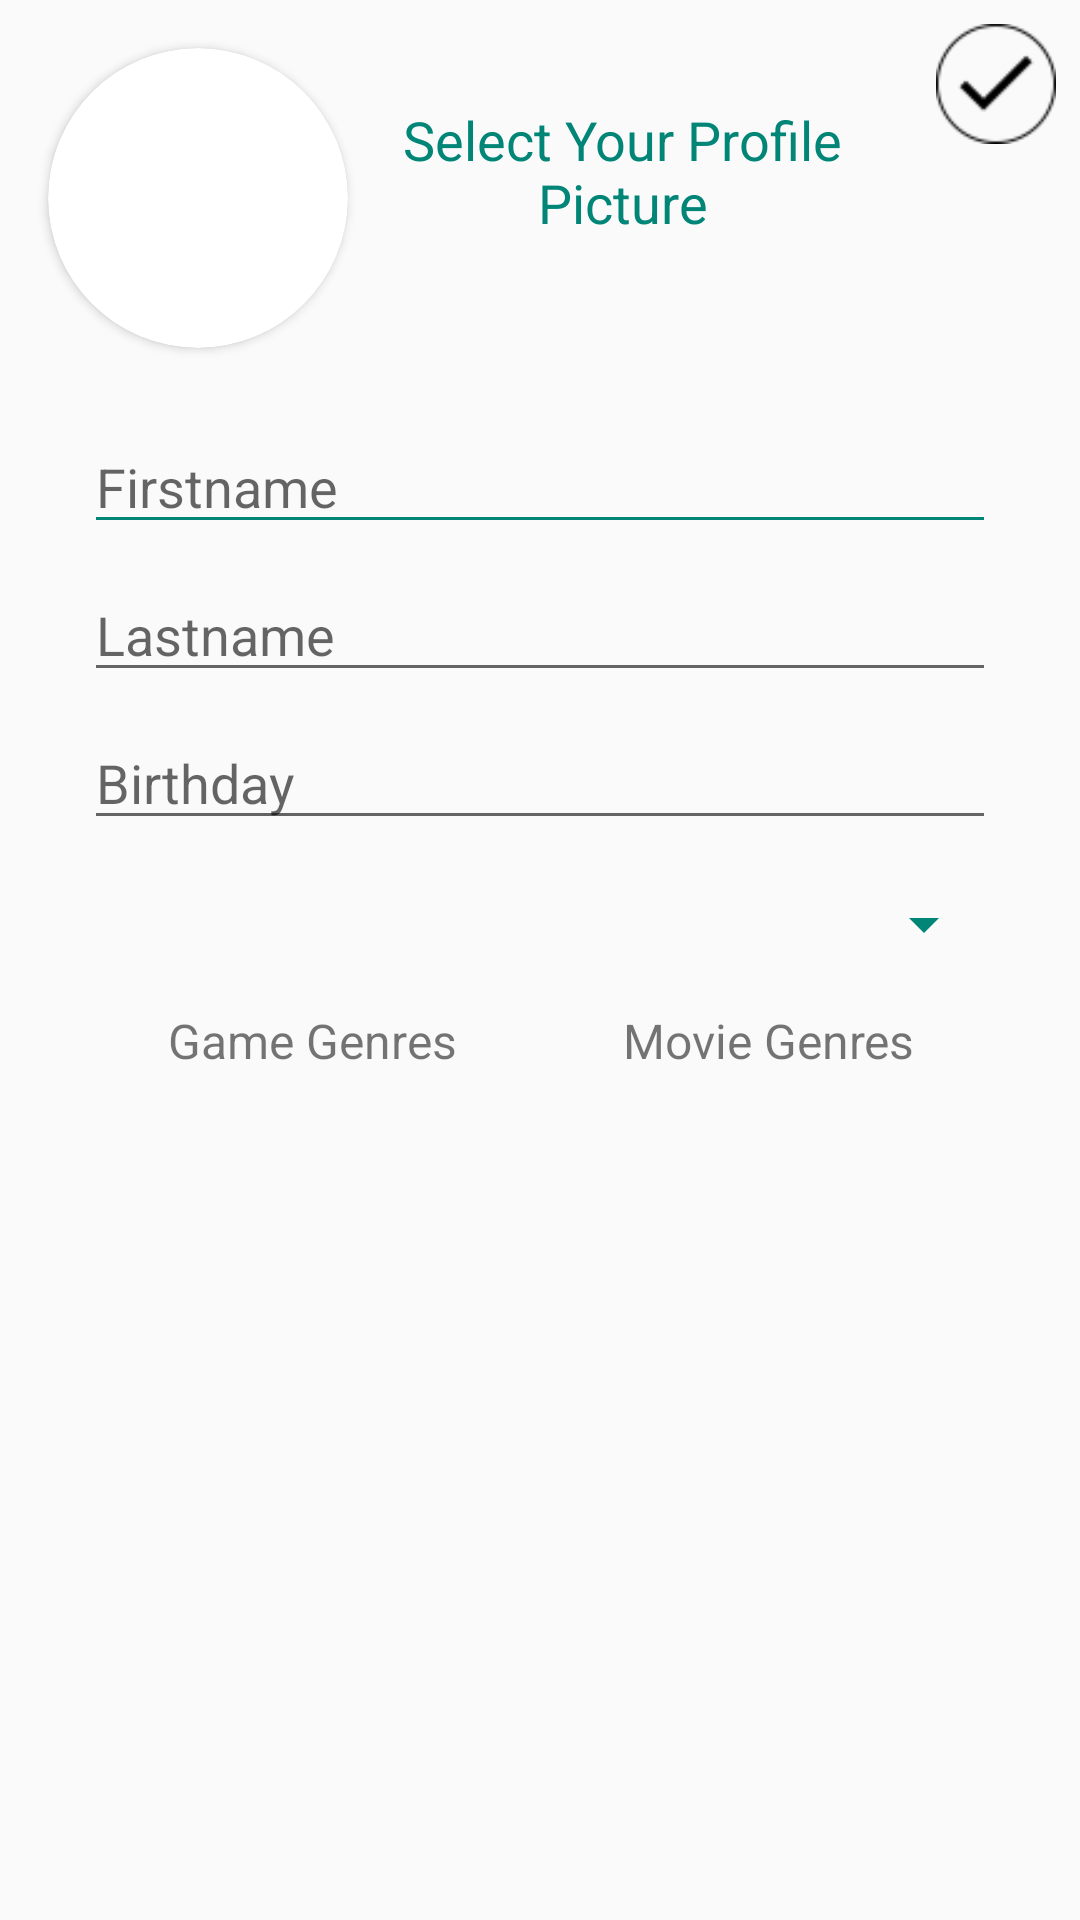

Named icons in this screenshot (1080x1920) and their bounding boxes, (x1, y1, x2, y2):
circle done: (936, 24, 1056, 144)
